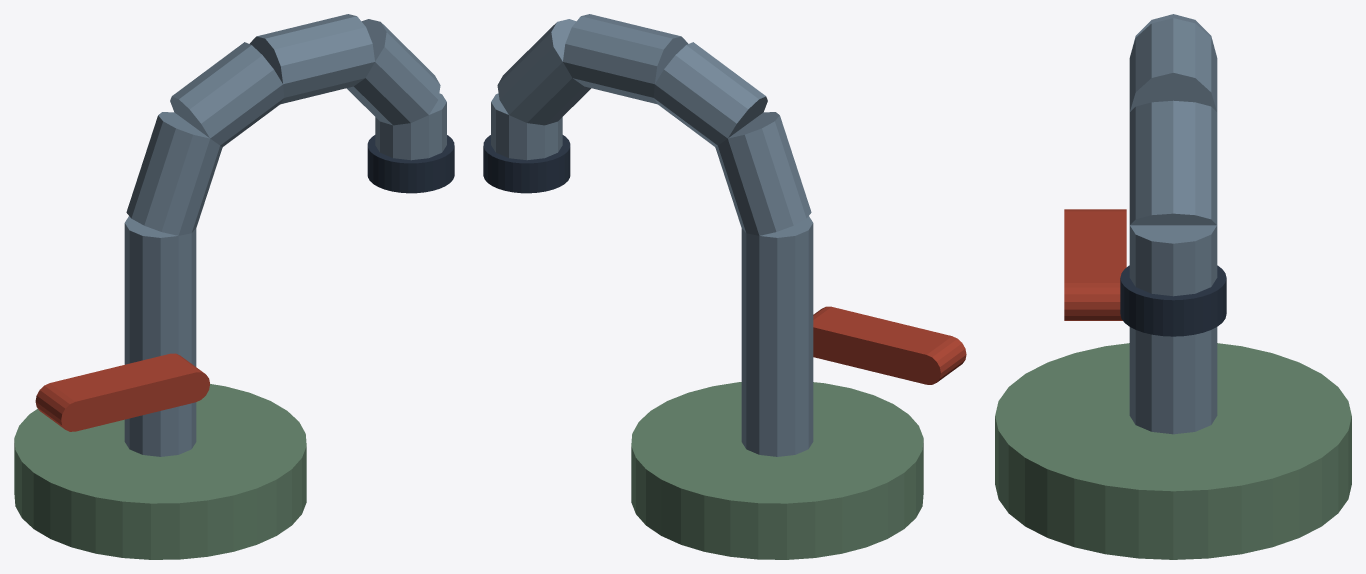
Rendered from faucet.glb.
3 views of the same model, side by side, from view 1: azimuth 30°, elevation 25°; view 2: azimuth 150°, elevation 25°; view 3: azimuth 270°, elevation 25° (orthographic). The views are drawn at different scales.
Visible parts, largest first — view 1: base, pipe0, lever, pipe1, pipe3, pipe2, pipe4, outlet, pipe5; view 2: base, pipe0, lever, pipe1, pipe3, pipe2, pipe4, outlet, pipe5; view 3: base, pipe4, pipe0, pipe3, lever, pipe5, outlet.
Part boxes in pixels (<box>): base: <box>14,384,306,559</box>; pipe0: <box>124,216,196,456</box>; lever: <box>35,353,209,431</box>; pipe1: <box>126,112,222,235</box>; pipe3: <box>249,14,374,104</box>; pipe2: <box>170,42,284,146</box>; pipe4: <box>347,19,440,125</box>; outlet: <box>367,135,454,193</box>; pipe5: <box>375,93,446,160</box>; base: <box>631,382,923,559</box>; pipe0: <box>741,216,813,456</box>; lever: <box>813,306,966,384</box>; pipe1: <box>715,112,811,235</box>; pipe3: <box>563,14,688,104</box>; pipe2: <box>653,42,767,146</box>; pipe4: <box>497,19,590,125</box>; outlet: <box>483,135,570,193</box>; pipe5: <box>491,93,562,160</box>; base: <box>995,343,1351,559</box>; pipe4: <box>1129,100,1217,225</box>; pipe0: <box>1129,327,1217,434</box>; pipe3: <box>1129,18,1217,111</box>; lever: <box>1064,209,1126,320</box>; pipe5: <box>1129,225,1217,296</box>; outlet: <box>1120,265,1226,336</box>.
Bounding box in the file's own units: 1.36 × 1.31 × 0.8.
